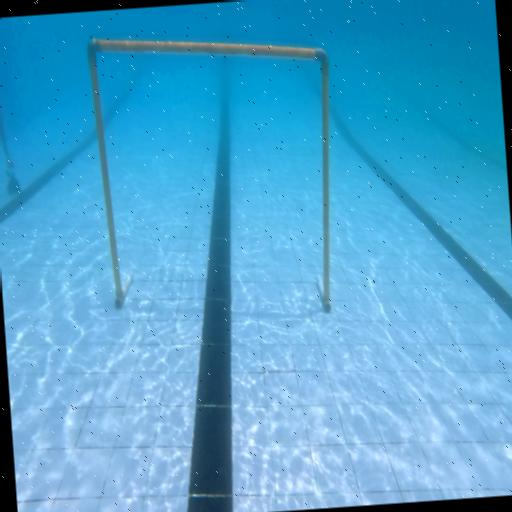gate: (86, 22, 345, 328)
